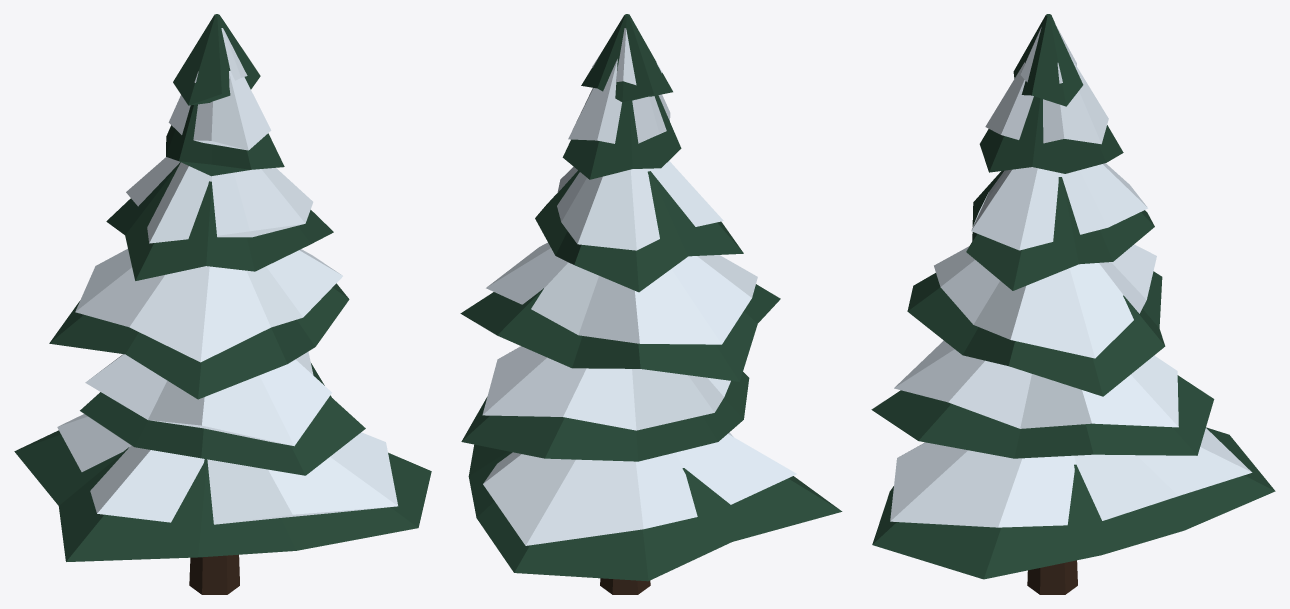
File: Hut_Pine_8_0_-2.fbx
3 views of the same model, side by side, from view 1: azimuth 30°, elevation 25°; view 2: azimuth 150°, elevation 25°; view 3: azimuth 270°, elevation 25° (orthographic).
Visible parts, largest first — view 1: Hut_Pine_8_0_-2; view 2: Hut_Pine_8_0_-2; view 3: Hut_Pine_8_0_-2.
Part boxes in pixels (bbox=[...]): Hut_Pine_8_0_-2: bbox=[14, 14, 431, 594]; Hut_Pine_8_0_-2: bbox=[460, 14, 842, 594]; Hut_Pine_8_0_-2: bbox=[871, 14, 1275, 594].
Bounding box in the file's own units: 432 × 646 × 415.
